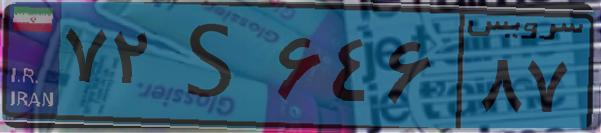2: (110, 28, 158, 98)
4: (330, 28, 385, 110)
6: (270, 28, 330, 110), (385, 28, 445, 110)
7: (57, 26, 110, 100), (525, 38, 570, 115)
8: (475, 38, 525, 113)
S: (158, 12, 270, 120)
